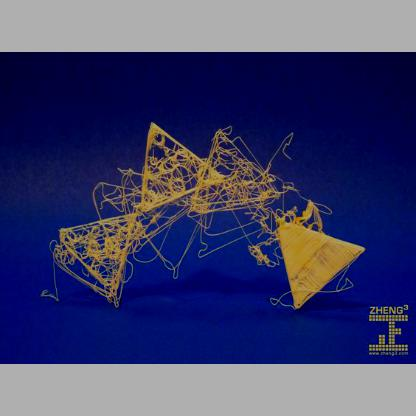fail: (130, 114, 300, 220), (42, 206, 138, 308)
